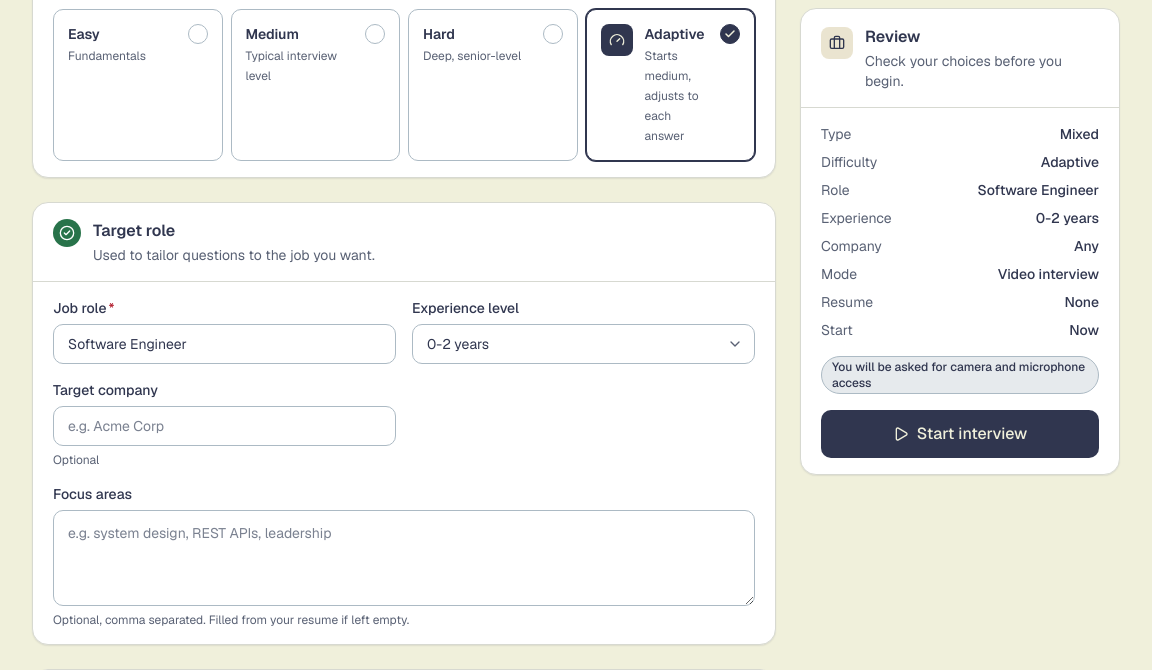
Test: interview setup › shows inline validation instead of starting with a missing role or resume
(page scrolled)
Clear the field labelled "Job role*" at (224,344), box [53,324,396,364]
(page scrolled)
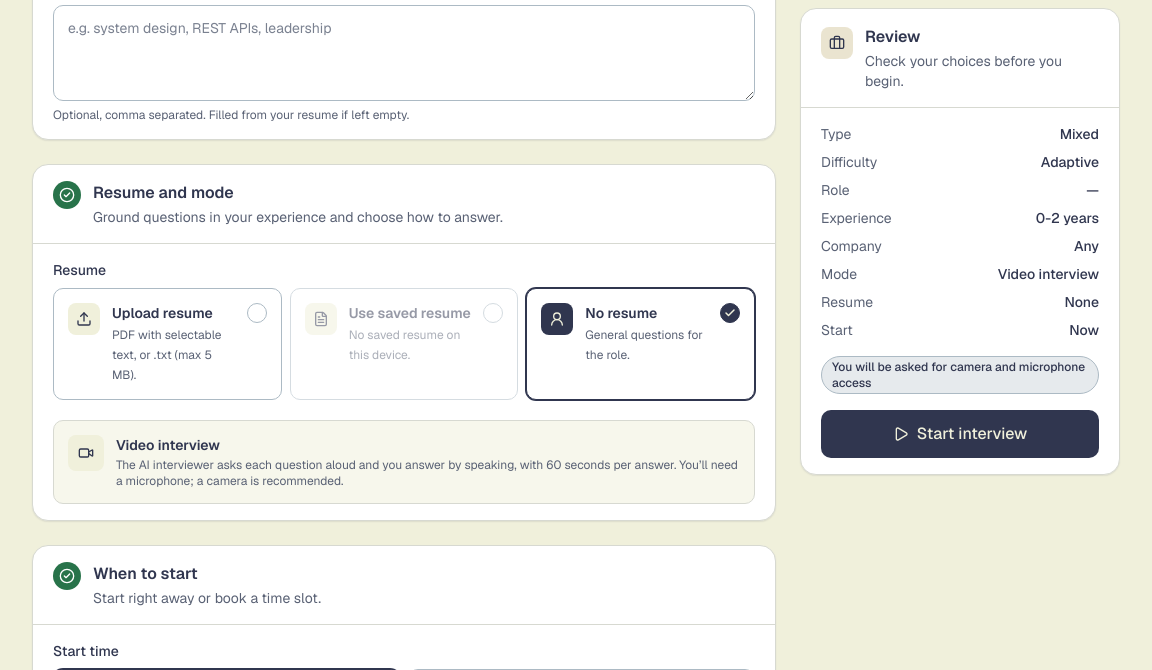
Click the radio button labelled "Upload resume PDF with selectable text, or .txt (max 5 MB).".
click(167, 344)  # box [53,288,282,400]
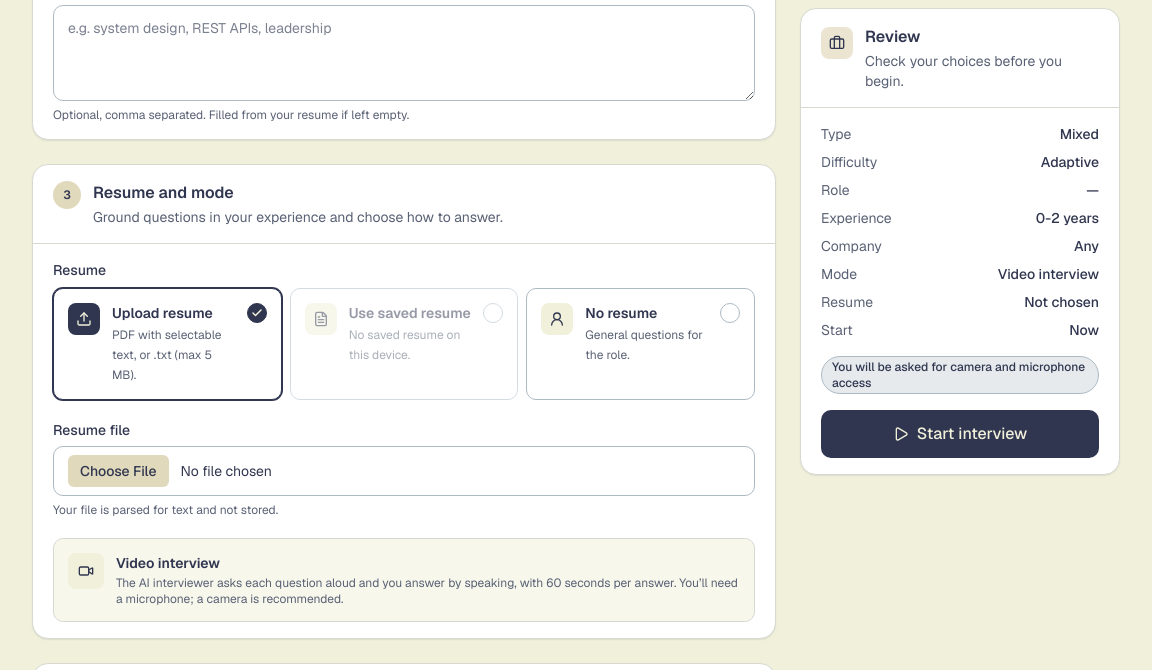
Click the button "Start interview".
click(960, 434)  # box [821,410,1099,458]
(page scrolled)
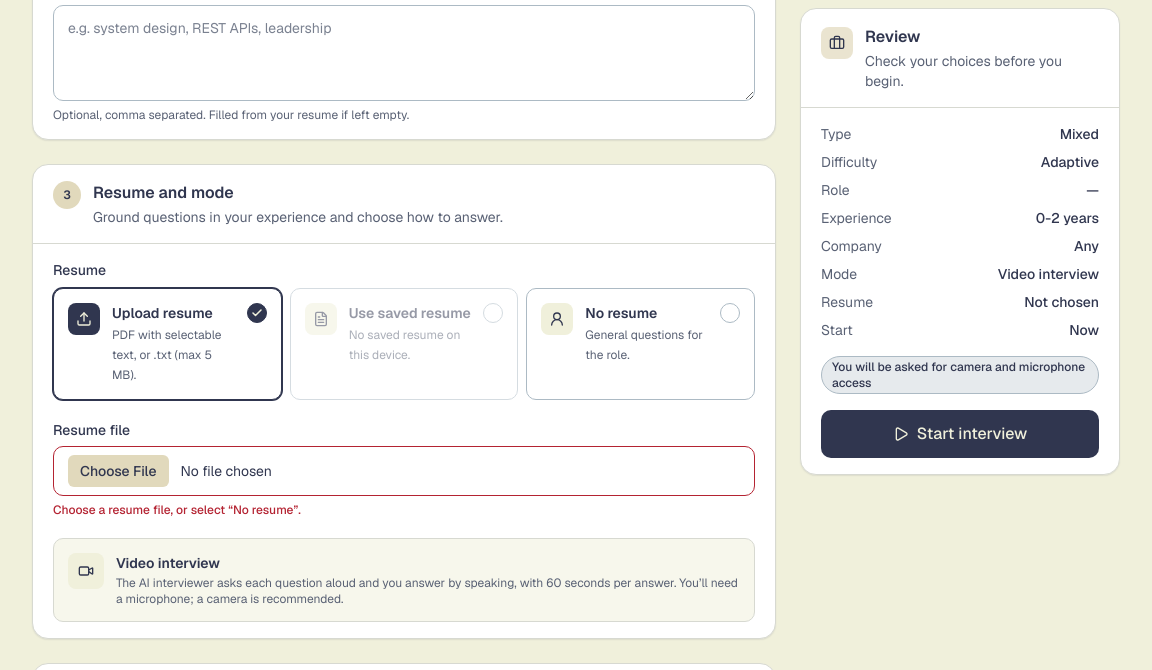
Now the text "Choose a resume file, or select “No resume”." is shown, box [53,502,301,518]
